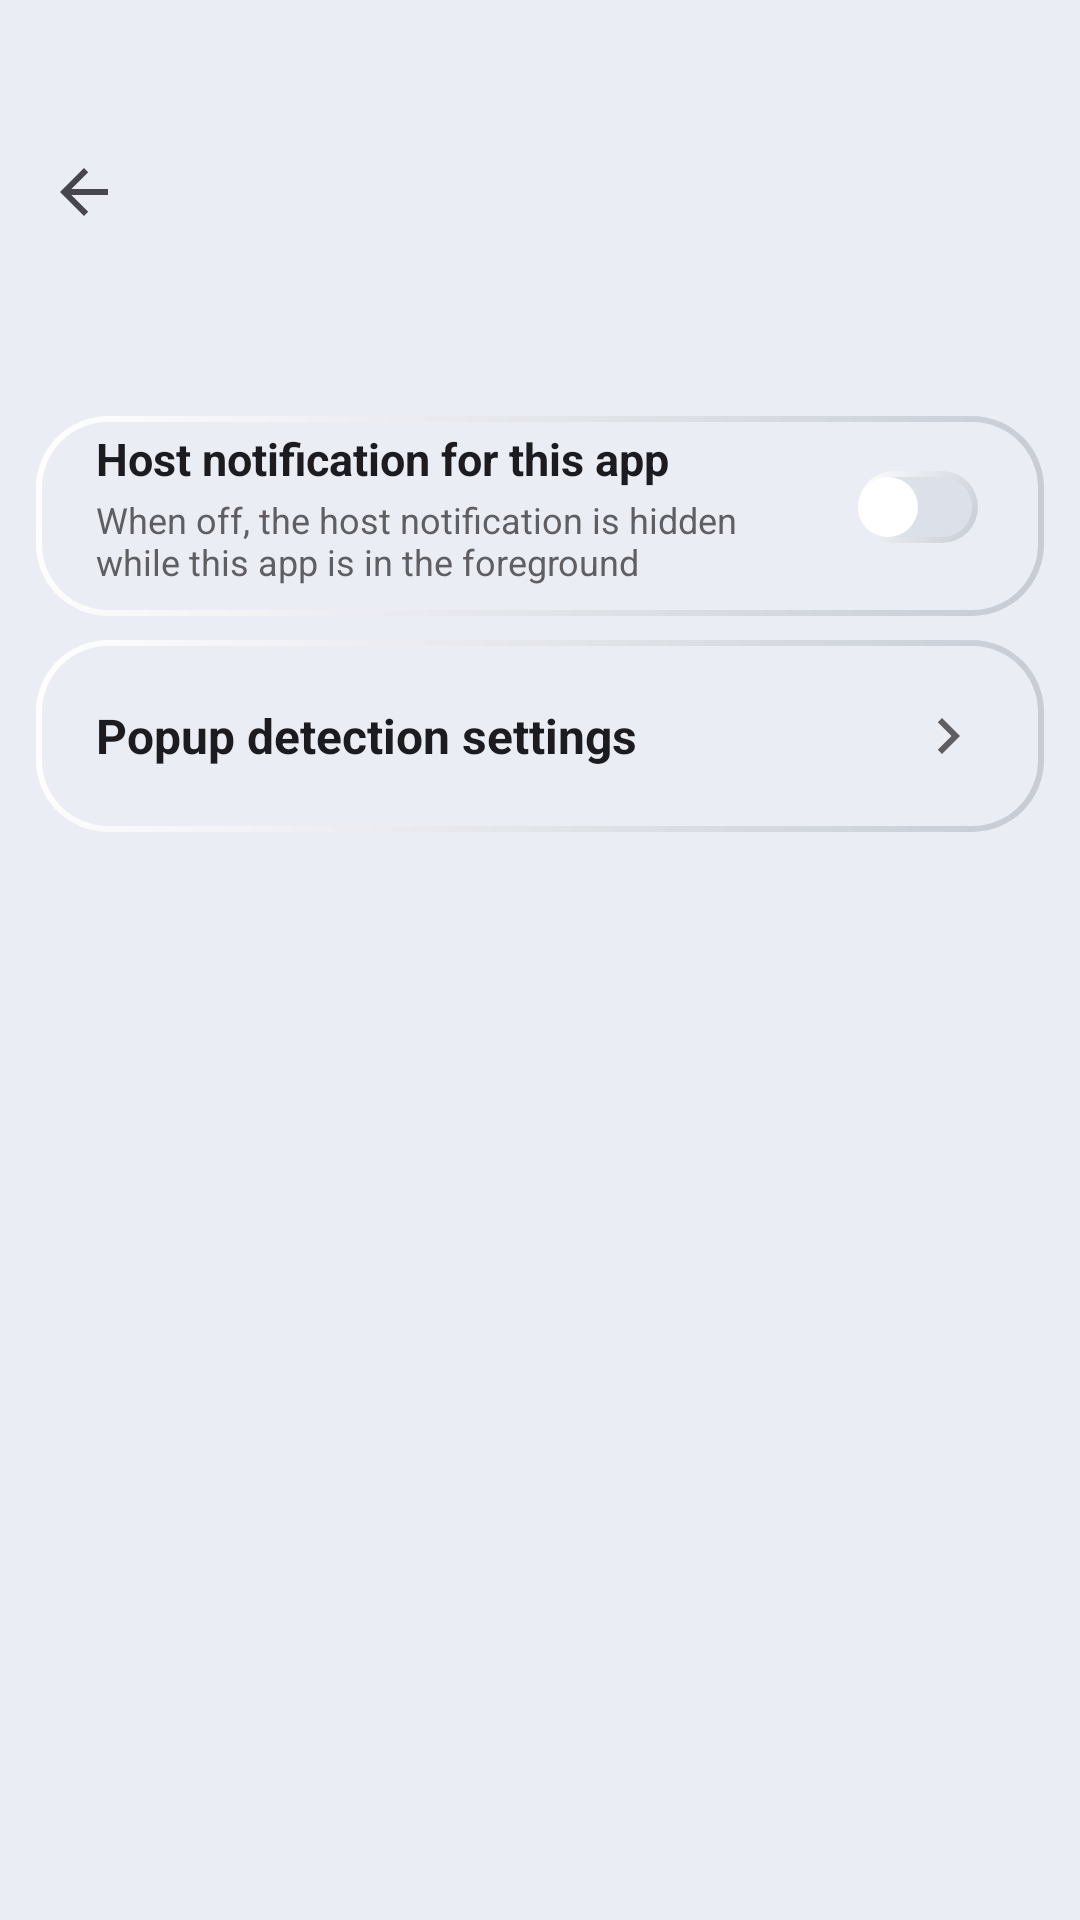

Where icons sit on this 1080px×1920px app screen, as bbox=(x1, y1, x2, y2):
arrow forward: bbox=(938, 718, 960, 754)
